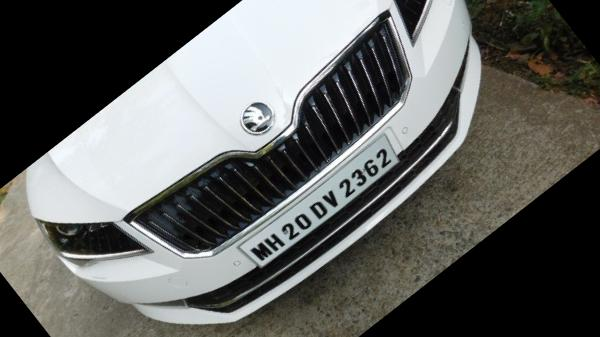plate: (229, 117, 423, 283)
